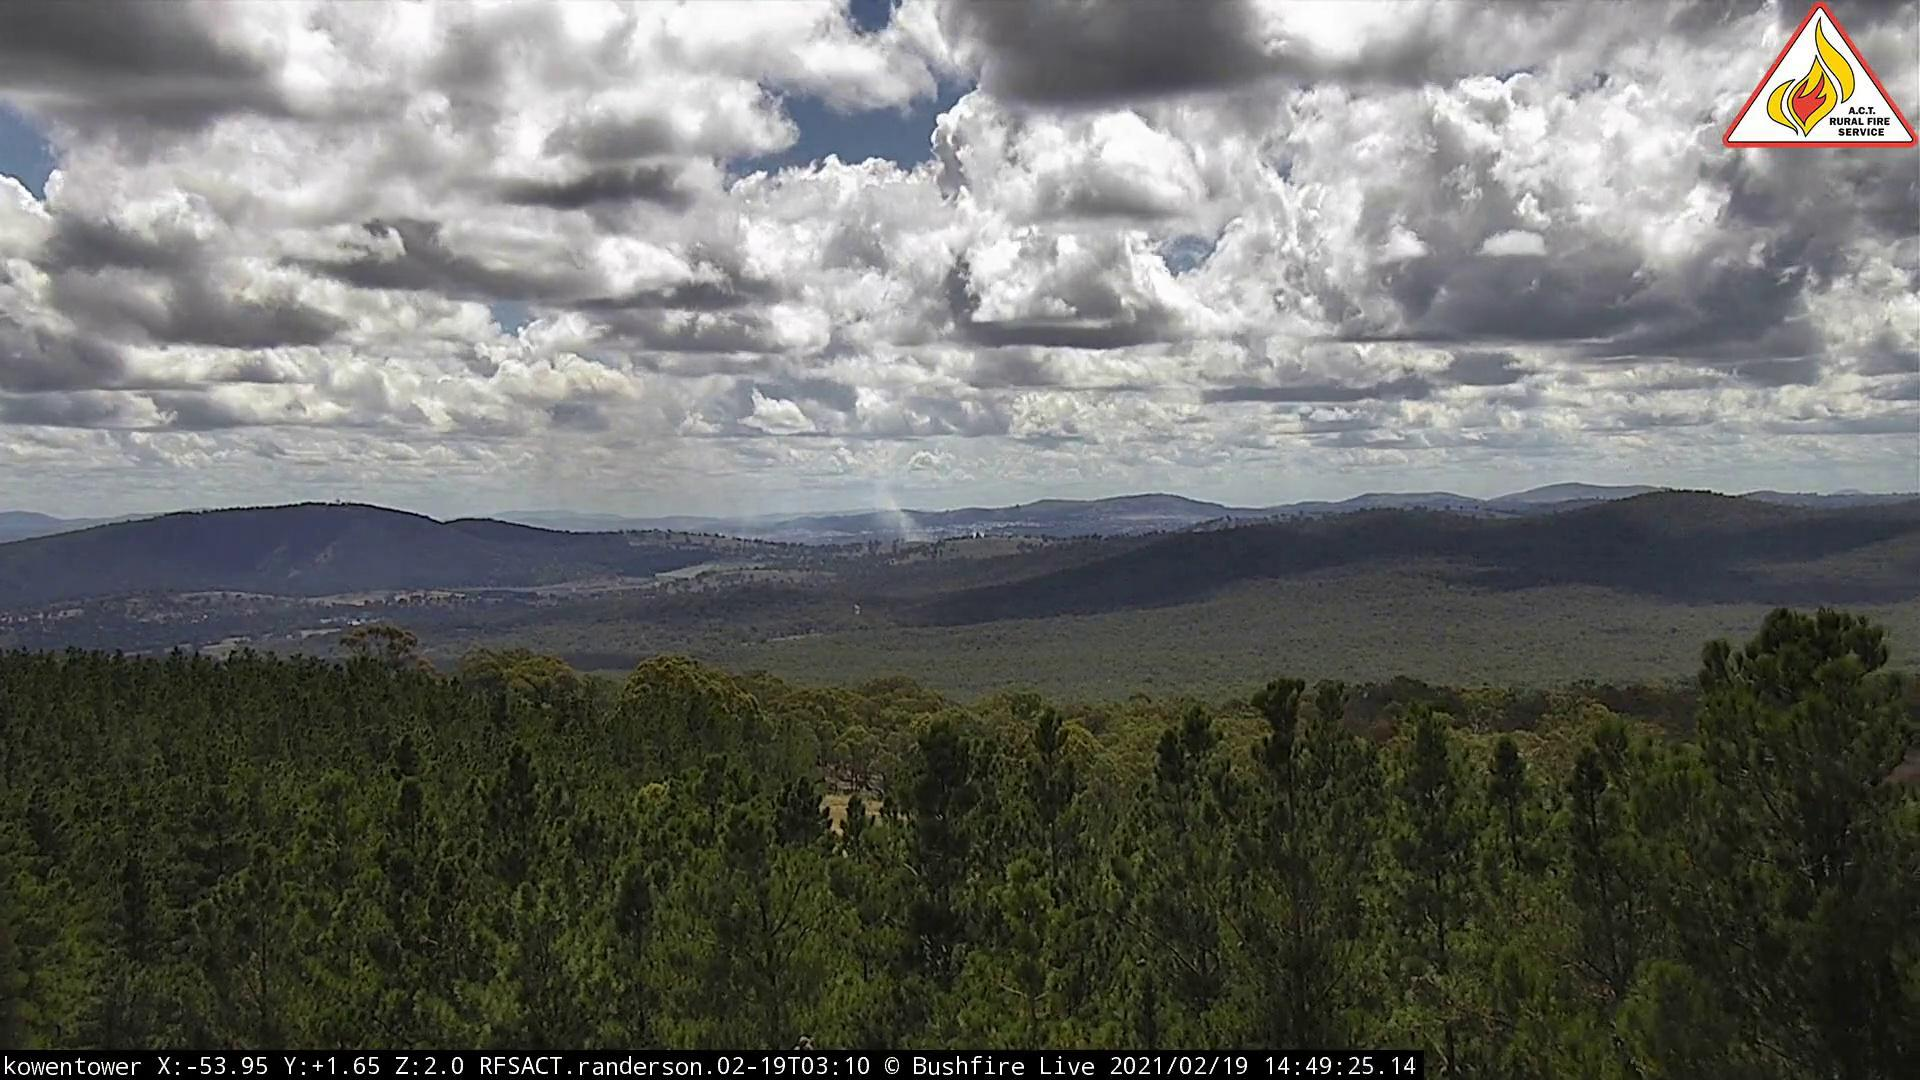Smoke: (520, 396, 951, 551)
